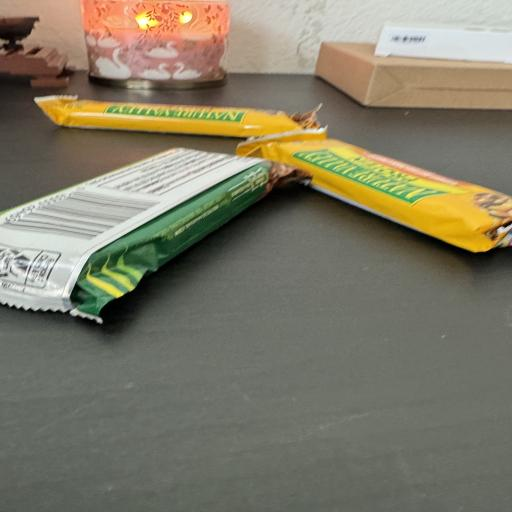granola: (0, 149, 307, 322), (238, 134, 511, 252), (35, 96, 325, 138)
